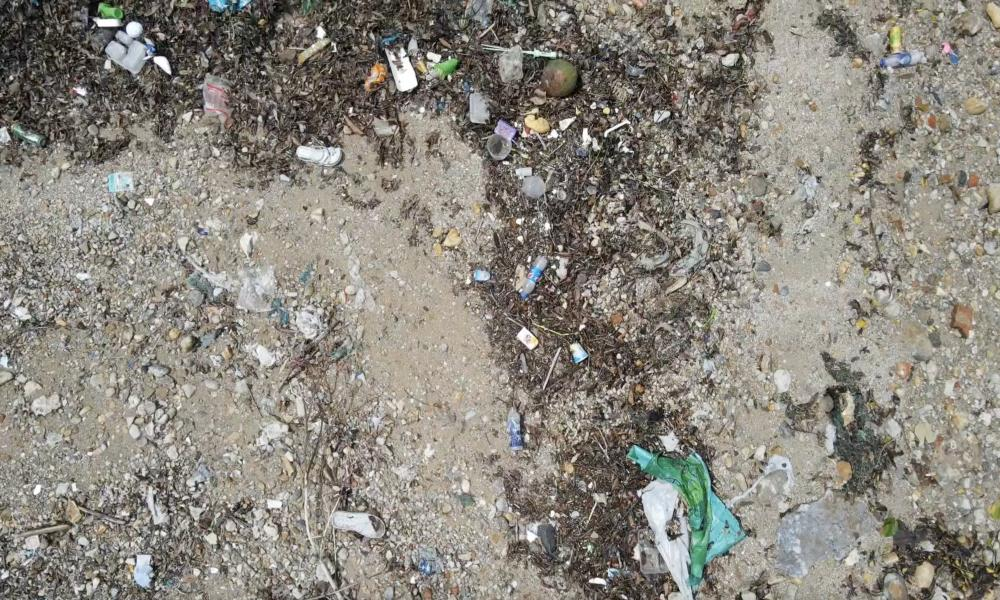carton: (519, 325, 539, 355), (496, 118, 516, 142)
plastic bag: (630, 444, 744, 579), (636, 470, 693, 600)
plastic bottle: (522, 254, 546, 298), (506, 406, 525, 451), (880, 49, 922, 67)
